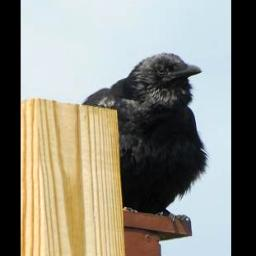Crow: (84, 51, 212, 221)
